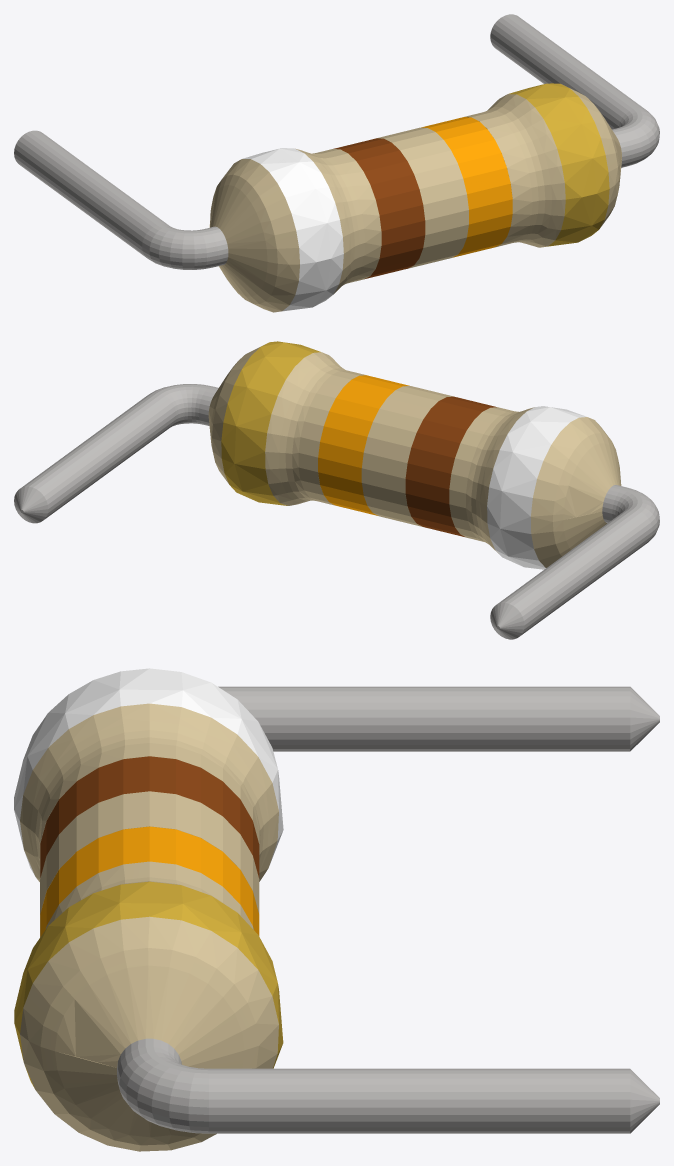
File: Yageo CFR-25 Resistor Axial P7.62mm 91,0 kOhm.obj
The picture shows the model from 3 angles, top to bottom: view 1: azimuth 30°, elevation 25°; view 2: azimuth 150°, elevation 25°; view 3: azimuth 270°, elevation 25°; orthographic projection. The views are drawn at different scales.
Visible parts, largest first — view 1: Yageo_CFR-25_Resistor_Axial_P7.62mm_91,0_kOhm; view 2: Yageo_CFR-25_Resistor_Axial_P7.62mm_91,0_kOhm; view 3: Yageo_CFR-25_Resistor_Axial_P7.62mm_91,0_kOhm.
Boxes of the visible parts, x1=… form: Yageo_CFR-25_Resistor_Axial_P7.62mm_91,0_kOhm: x1=14, y1=14, x2=659, y2=312; Yageo_CFR-25_Resistor_Axial_P7.62mm_91,0_kOhm: x1=14, y1=341, x2=659, y2=639; Yageo_CFR-25_Resistor_Axial_P7.62mm_91,0_kOhm: x1=14, y1=668, x2=659, y2=1151.
Size of the model in its own units: 0.0255 by 0.00705 by 0.017.
